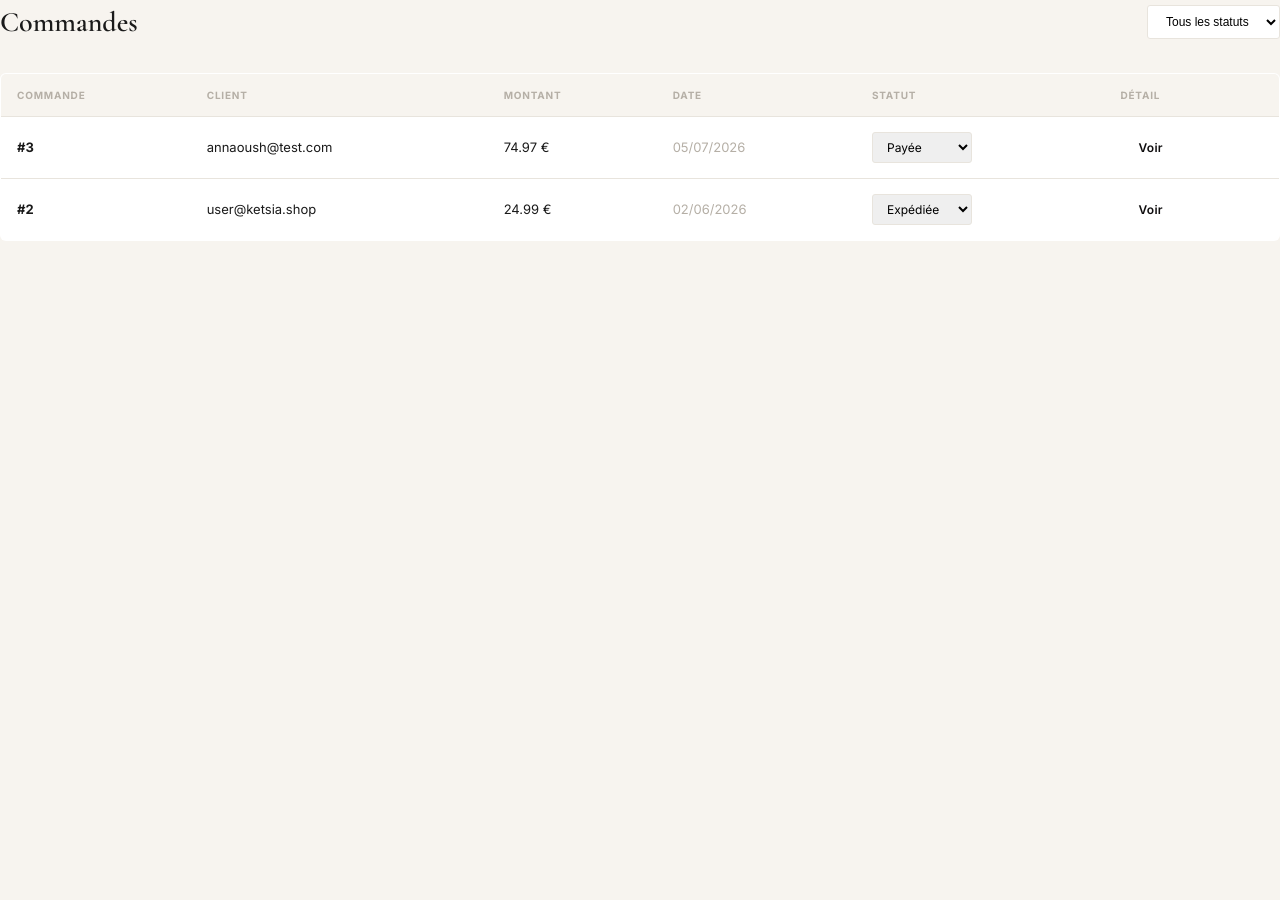
Test case: AdminOrdersPage › ouvre la modale de détail avec les articles de la commande
Check: the text "#3" is shown, box [17, 139, 34, 155]
Click the button "Voir" in the row of "annaoush@test.com": click(1151, 147) [1120, 131, 1181, 164]
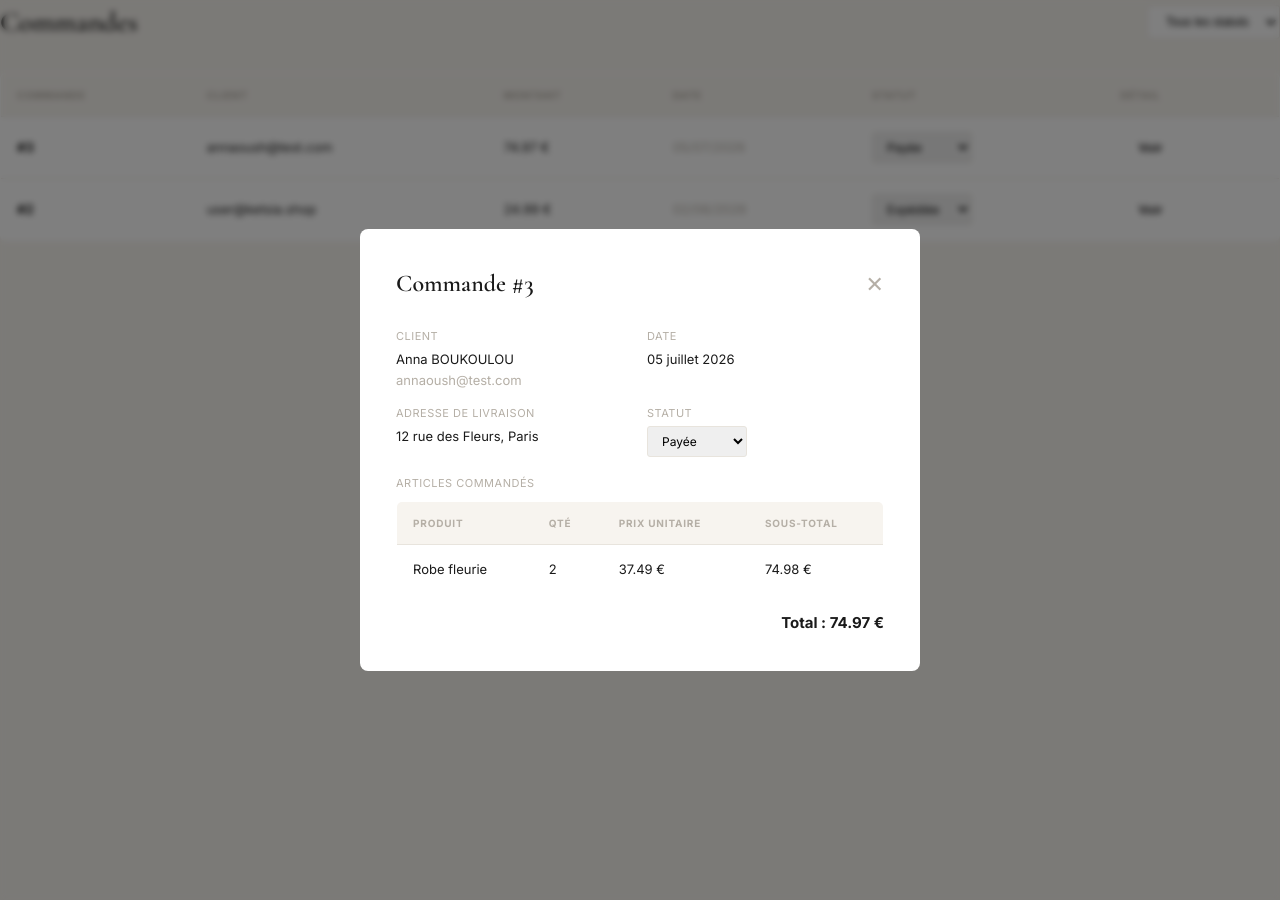
Check: the text "Commande #3" is shown, box [396, 265, 534, 304]
Check: the text "12 rue des Fleurs, Paris" is shown, box [396, 428, 539, 444]
Check: the text "Robe fleurie" is shown, box [413, 561, 487, 577]
